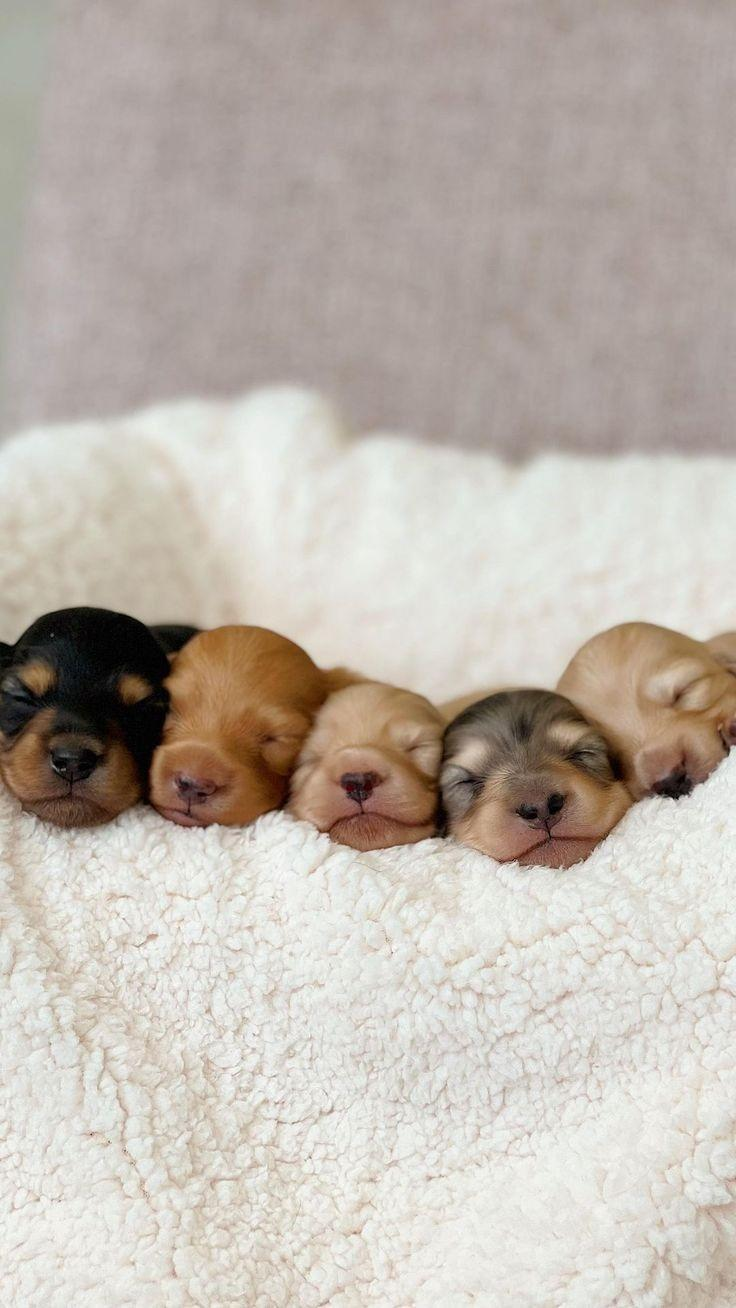puppy-dog: (152, 624, 363, 832), (1, 604, 193, 831), (439, 688, 640, 869), (559, 621, 736, 800), (285, 680, 446, 850)
